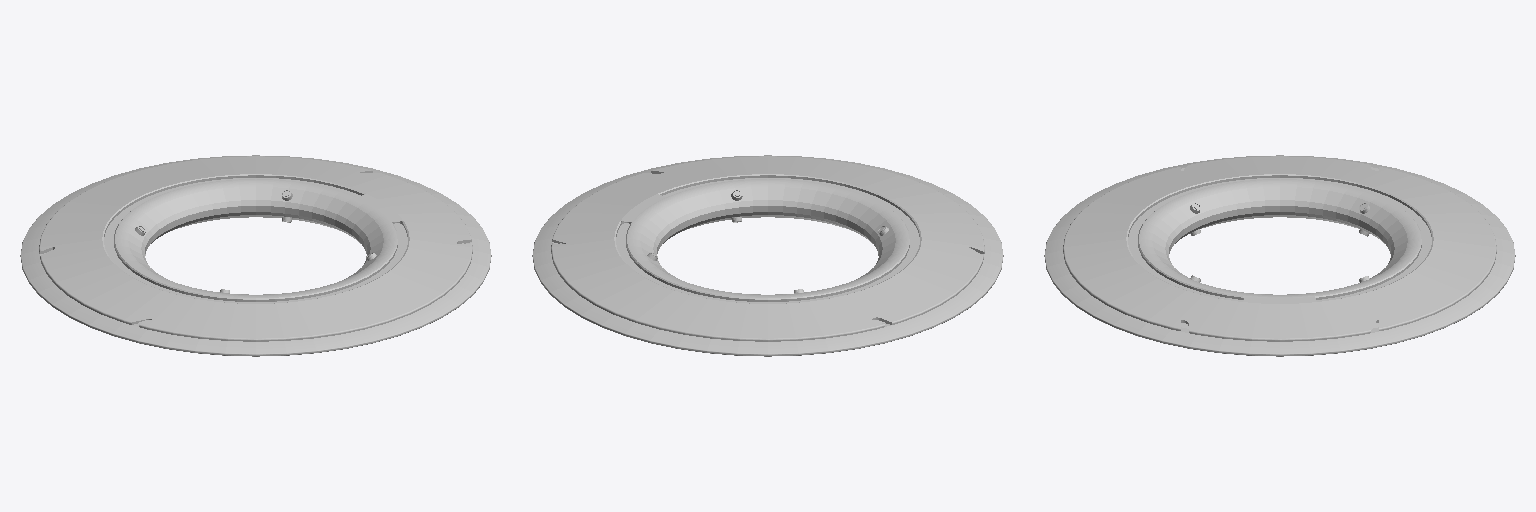
The model's file is torn legacy disk v2-0.obj.
3 views of the same model, side by side, from view 1: azimuth 30°, elevation 25°; view 2: azimuth 150°, elevation 25°; view 3: azimuth 270°, elevation 25° (orthographic).
Visible parts, largest first — view 1: Mesh5 Difference1 Model, Mesh1 OuterShell Model, Mesh3 Difference Model, Mesh6 Difference2 Model, Mesh4 Difference Model; view 2: Mesh5 Difference1 Model, Mesh1 OuterShell Model, Mesh4 Difference Model, Mesh6 Difference2 Model, Mesh3 Difference Model; view 3: Mesh5 Difference1 Model, Mesh1 OuterShell Model, Mesh3 Difference Model, Mesh4 Difference Model, Mesh6 Difference2 Model.
Part boxes in pixels (x1,y1,x2,y2): Mesh5 Difference1 Model: (39,156,472,341); Mesh1 OuterShell Model: (20,155,491,356); Mesh3 Difference Model: (139,243,472,329); Mesh6 Difference2 Model: (145,209,366,255); Mesh4 Difference Model: (39,167,372,253); Mesh5 Difference1 Model: (551,156,984,341); Mesh1 OuterShell Model: (532,155,1003,356); Mesh4 Difference Model: (551,243,884,329); Mesh6 Difference2 Model: (657,209,878,255); Mesh3 Difference Model: (651,167,984,253); Mesh5 Difference1 Model: (1063,156,1496,341); Mesh1 OuterShell Model: (1044,155,1515,356); Mesh3 Difference Model: (1118,167,1180,330); Mesh4 Difference Model: (1379,167,1441,330); Mesh6 Difference2 Model: (1169,209,1390,253).
Size of the model in its own units: 228 by 18.56 by 228.